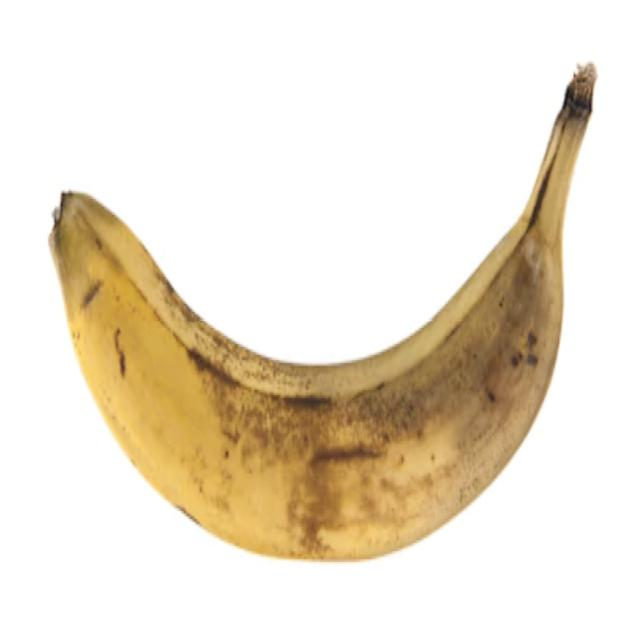rotten-banana: (48, 59, 598, 562)
